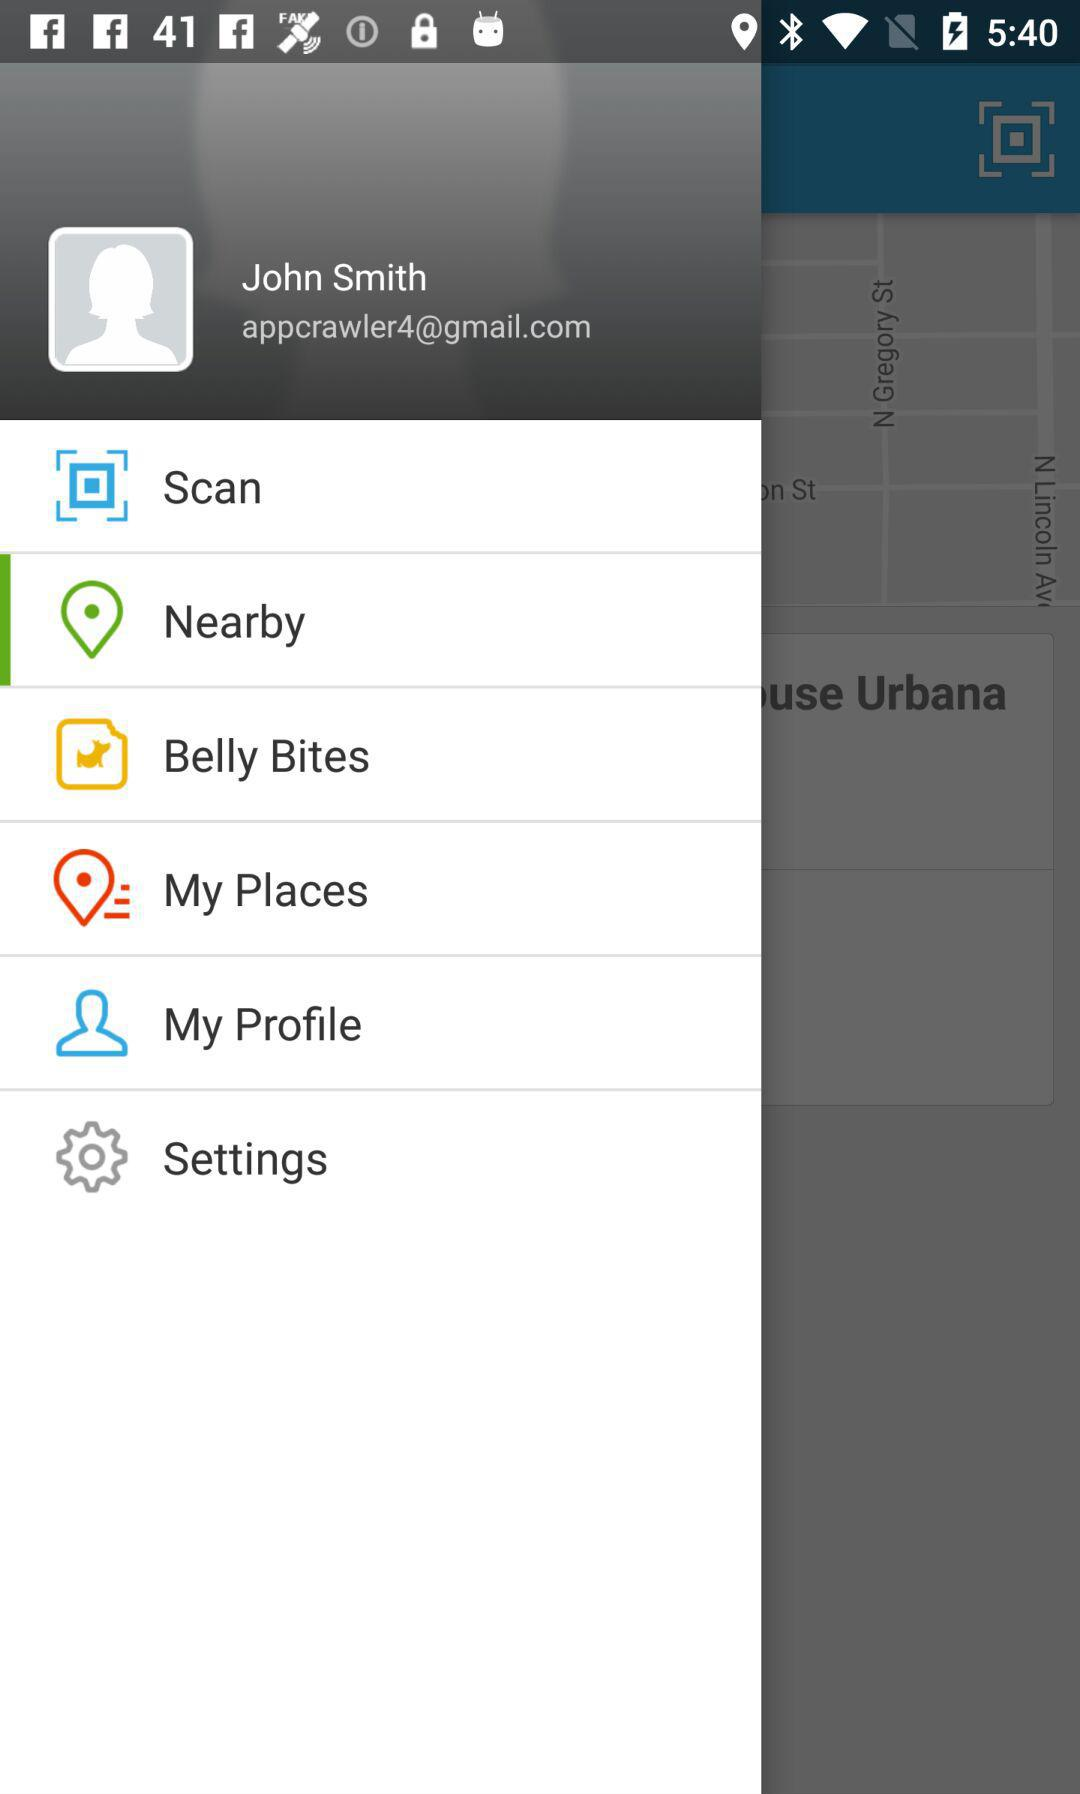Drawer: (1, 64, 761, 1794)
Icon: (47, 227, 195, 373), (53, 850, 132, 928), (55, 1120, 129, 1194), (60, 580, 126, 661), (56, 989, 129, 1058)
Image: (978, 101, 1057, 181), (56, 448, 129, 524), (56, 718, 129, 792)
Text: (242, 311, 592, 349), (165, 736, 370, 784), (167, 871, 369, 918), (165, 1005, 363, 1051), (164, 1140, 328, 1187), (164, 602, 307, 648), (240, 261, 427, 293), (164, 468, 263, 507)
UpperTaskBar: (1, 1, 1080, 64)
